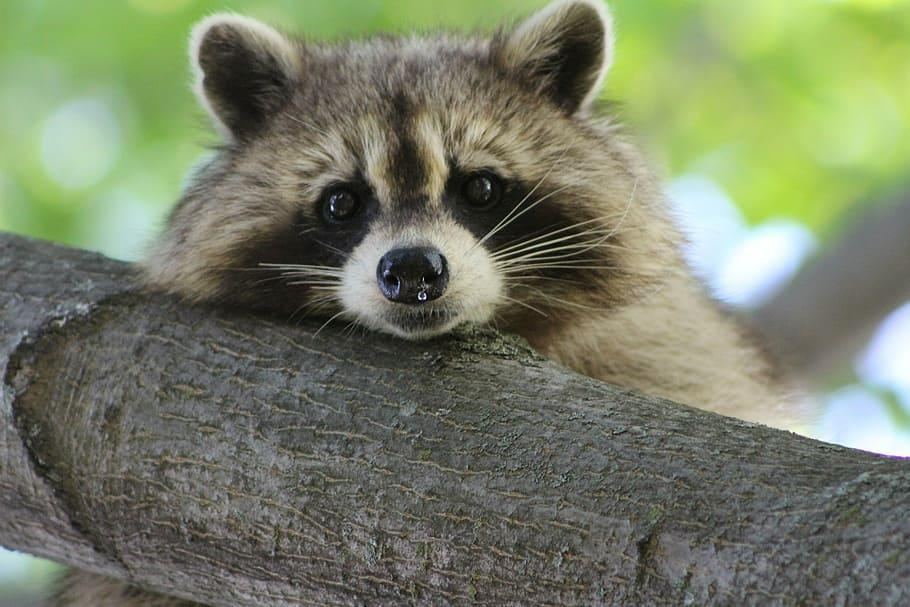raccoon: (142, 0, 790, 430)
